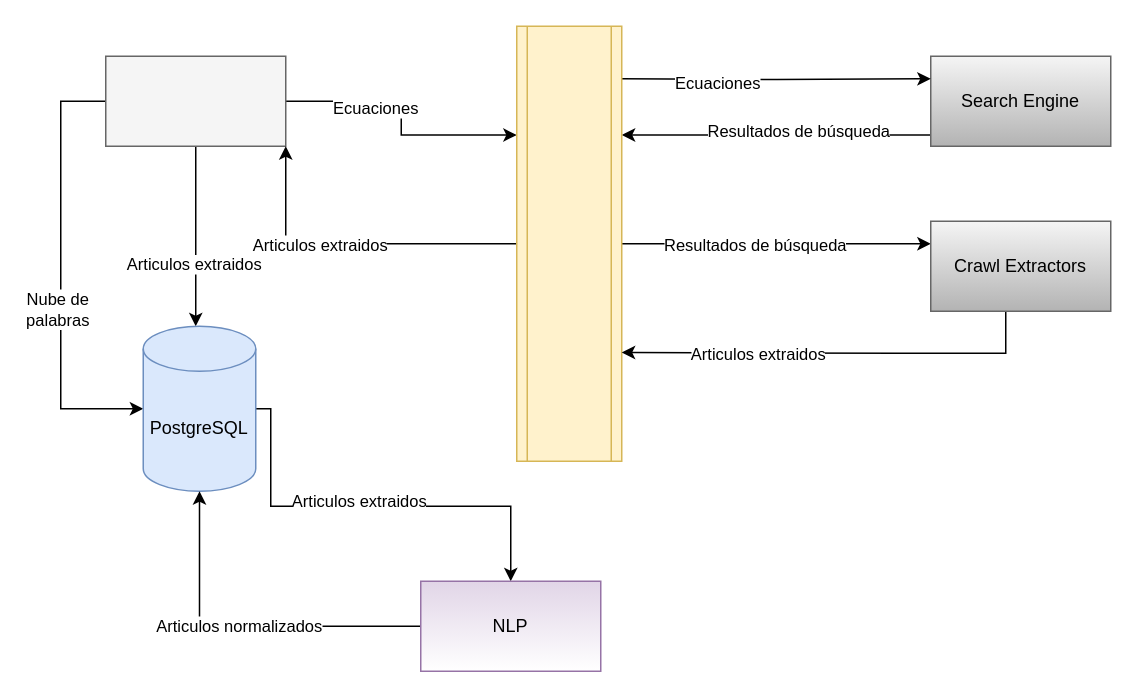
The diagram is 1137 pixels wide and 698 high, and some of its shapes have lost their labels. The shapes that lost their labels are listed below. From the top down, each one's box as (x1, y1, x2, y2) in pixels, then its label:
(104, 55, 286, 146): Server
(515, 25, 622, 461): RabbitMQ
